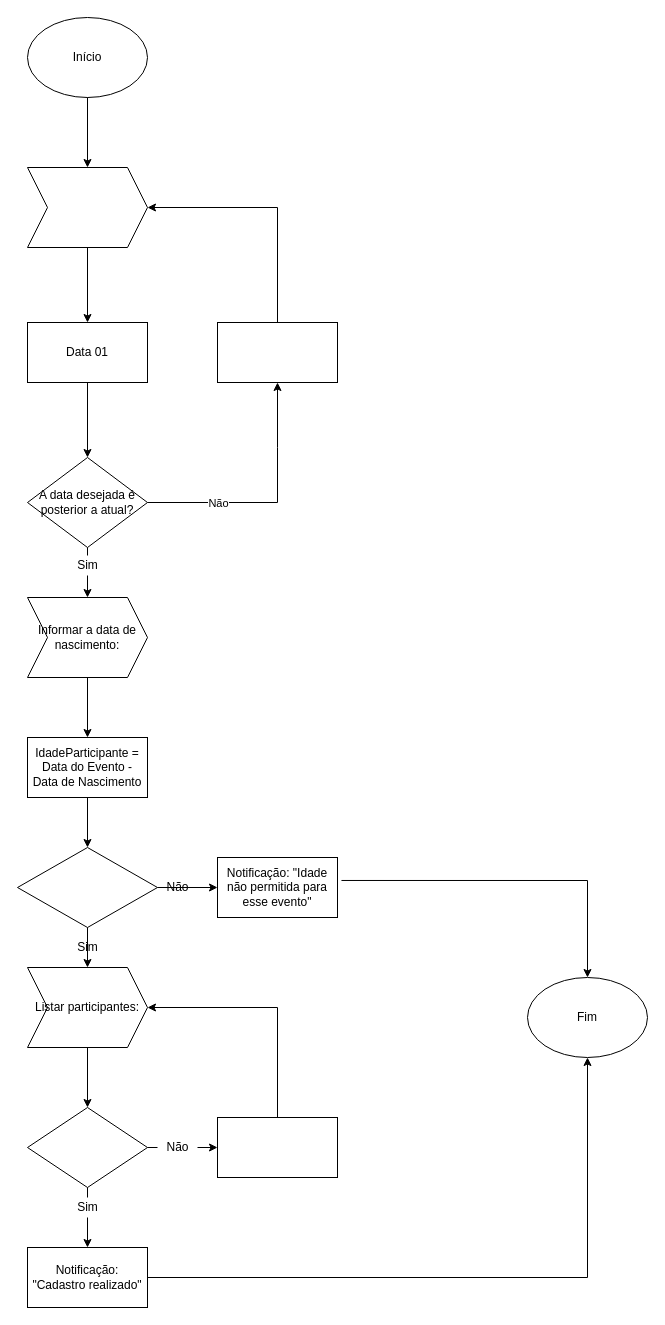
Image size: 665x1325. Some labels were removed from this diagram. The centre of each missing label's shape, as x and y in pixels:
Idadeparticipante > 18 anos?: [87,887]
Inserir data desejada de participação:: [87,207]
Notificação: "A data desejada não é válida": [277,352]
Notificação: "O limite de participantes são 100": [277,1147]
Quantidade de participantes <= 100?: [87,1147]
